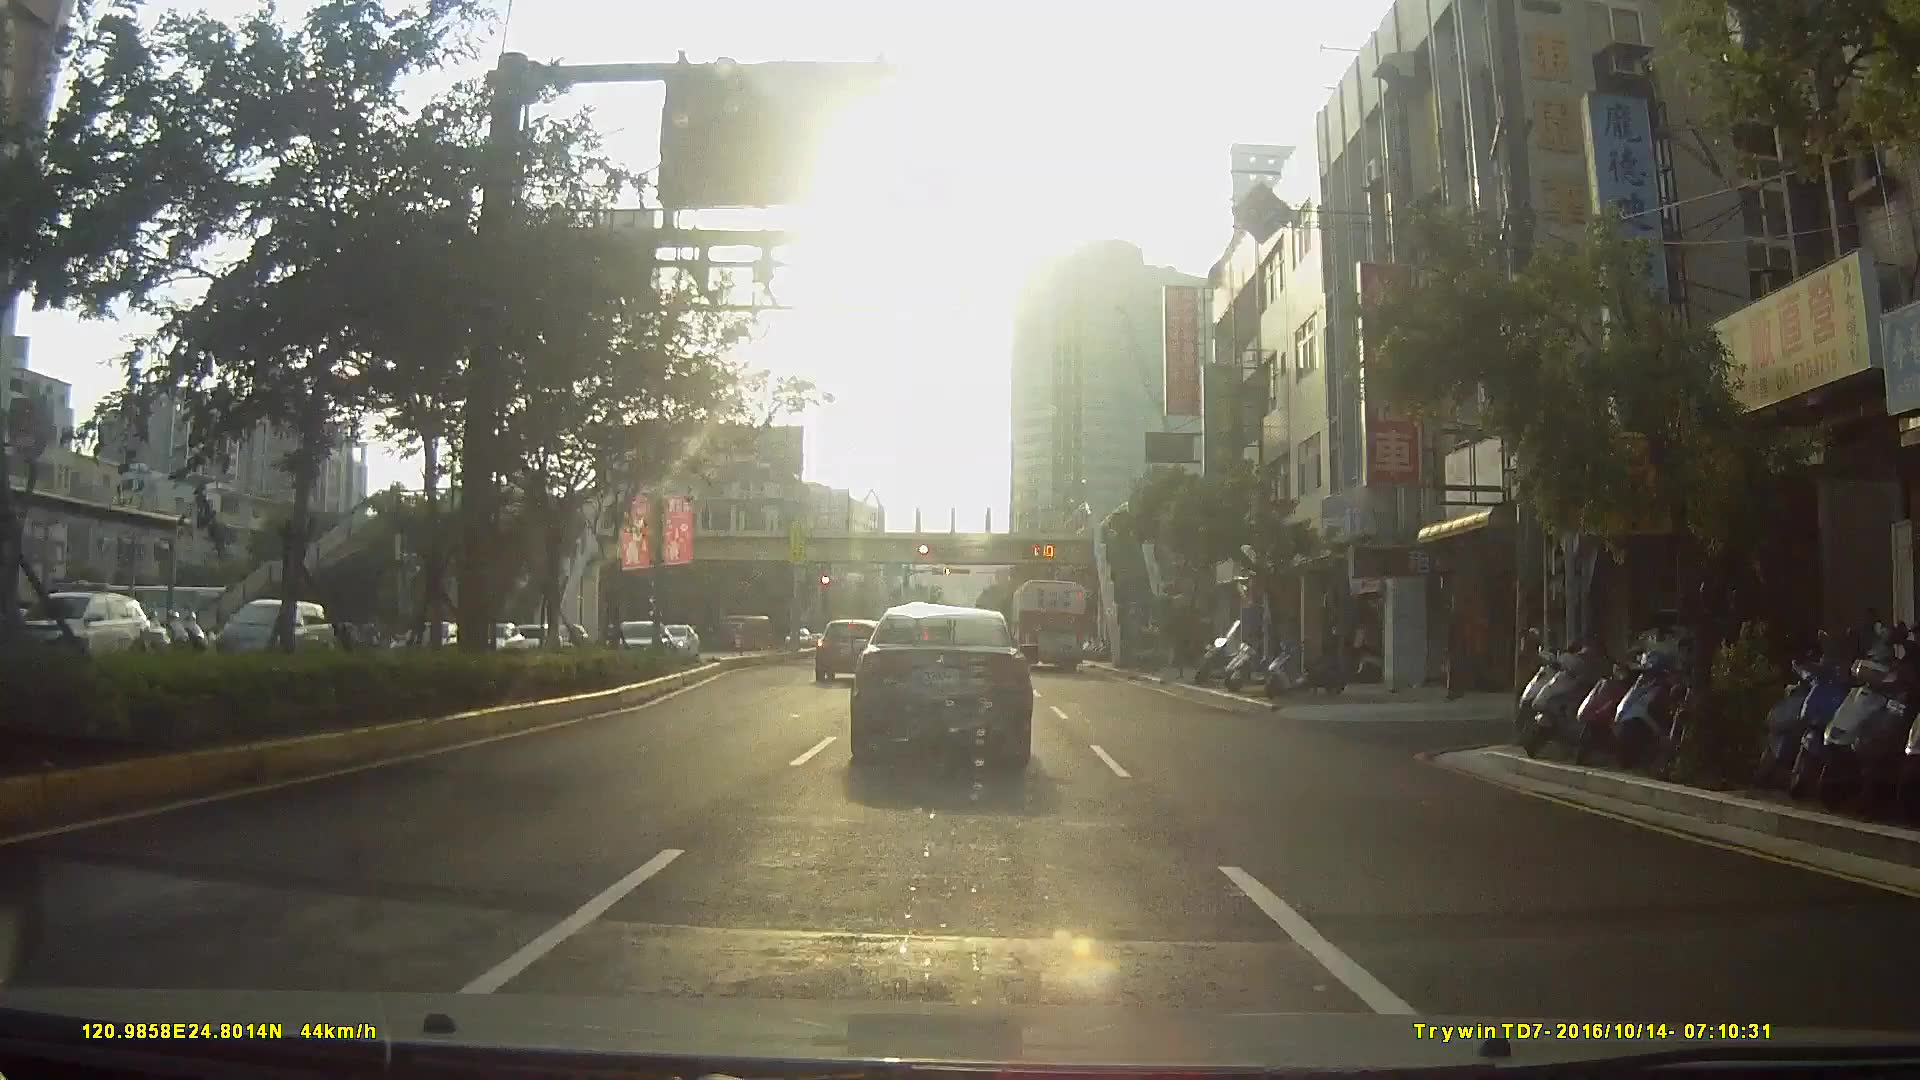vehicle: (847, 604, 1034, 767), (268, 541, 363, 666), (210, 595, 332, 663), (1006, 575, 1088, 674), (814, 615, 884, 683)
